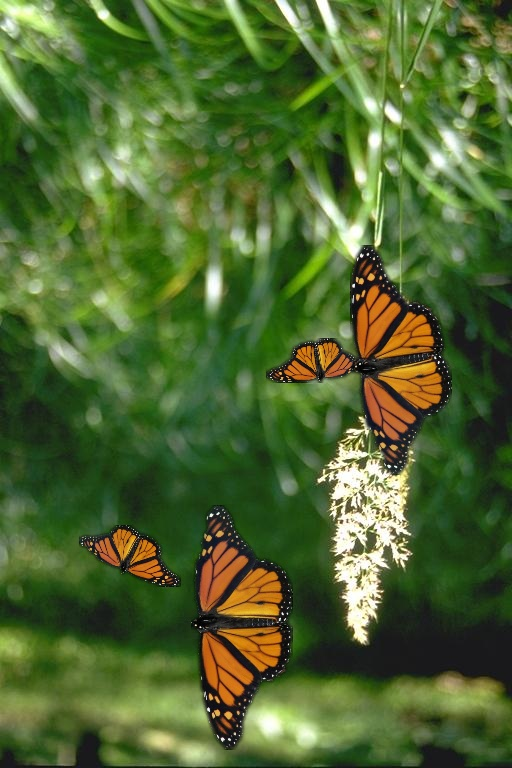danaus_plexippus: (191, 505, 293, 745), (350, 245, 452, 475), (79, 525, 181, 587), (266, 338, 368, 383)
